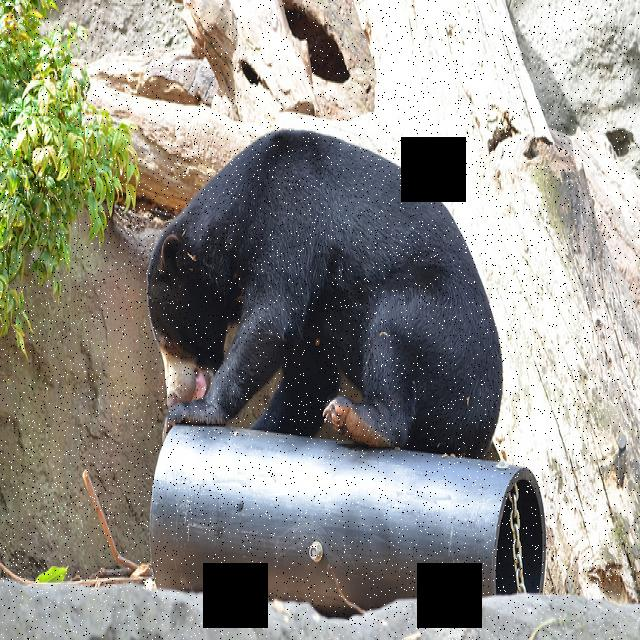Bear: (127, 130, 521, 466)
